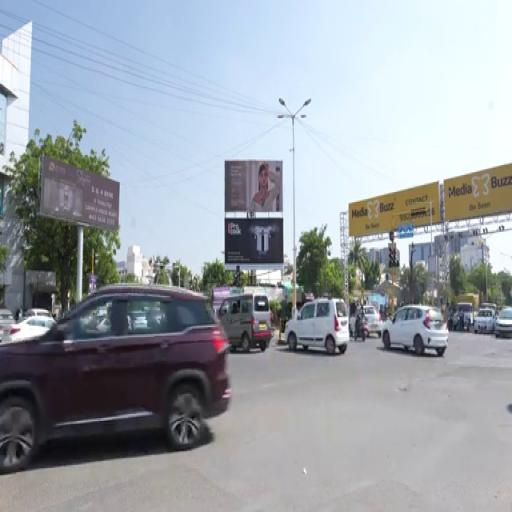Car: (0, 285, 231, 473), (285, 299, 349, 355), (383, 305, 448, 356), (218, 293, 272, 352), (2, 316, 55, 342), (364, 306, 382, 338), (474, 309, 495, 334), (0, 309, 15, 341), (495, 308, 511, 337), (129, 312, 147, 329), (24, 309, 51, 318)
